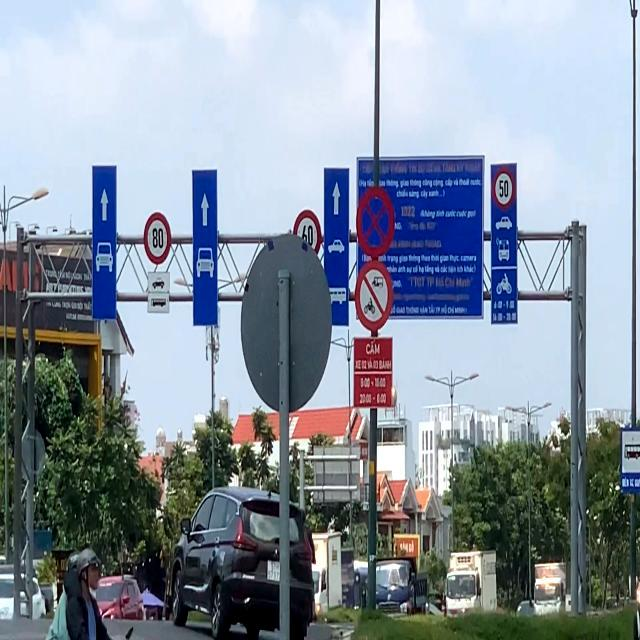Cam dung xe va do xe: (355, 184, 396, 259)
Toc do toi da cho phep: (142, 210, 172, 265)
